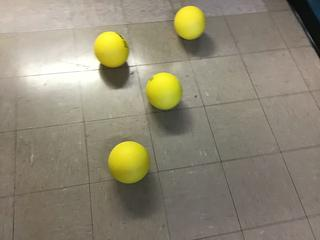power_cell: (106, 140, 152, 186), (92, 29, 132, 72), (145, 71, 185, 112), (172, 4, 209, 42)
